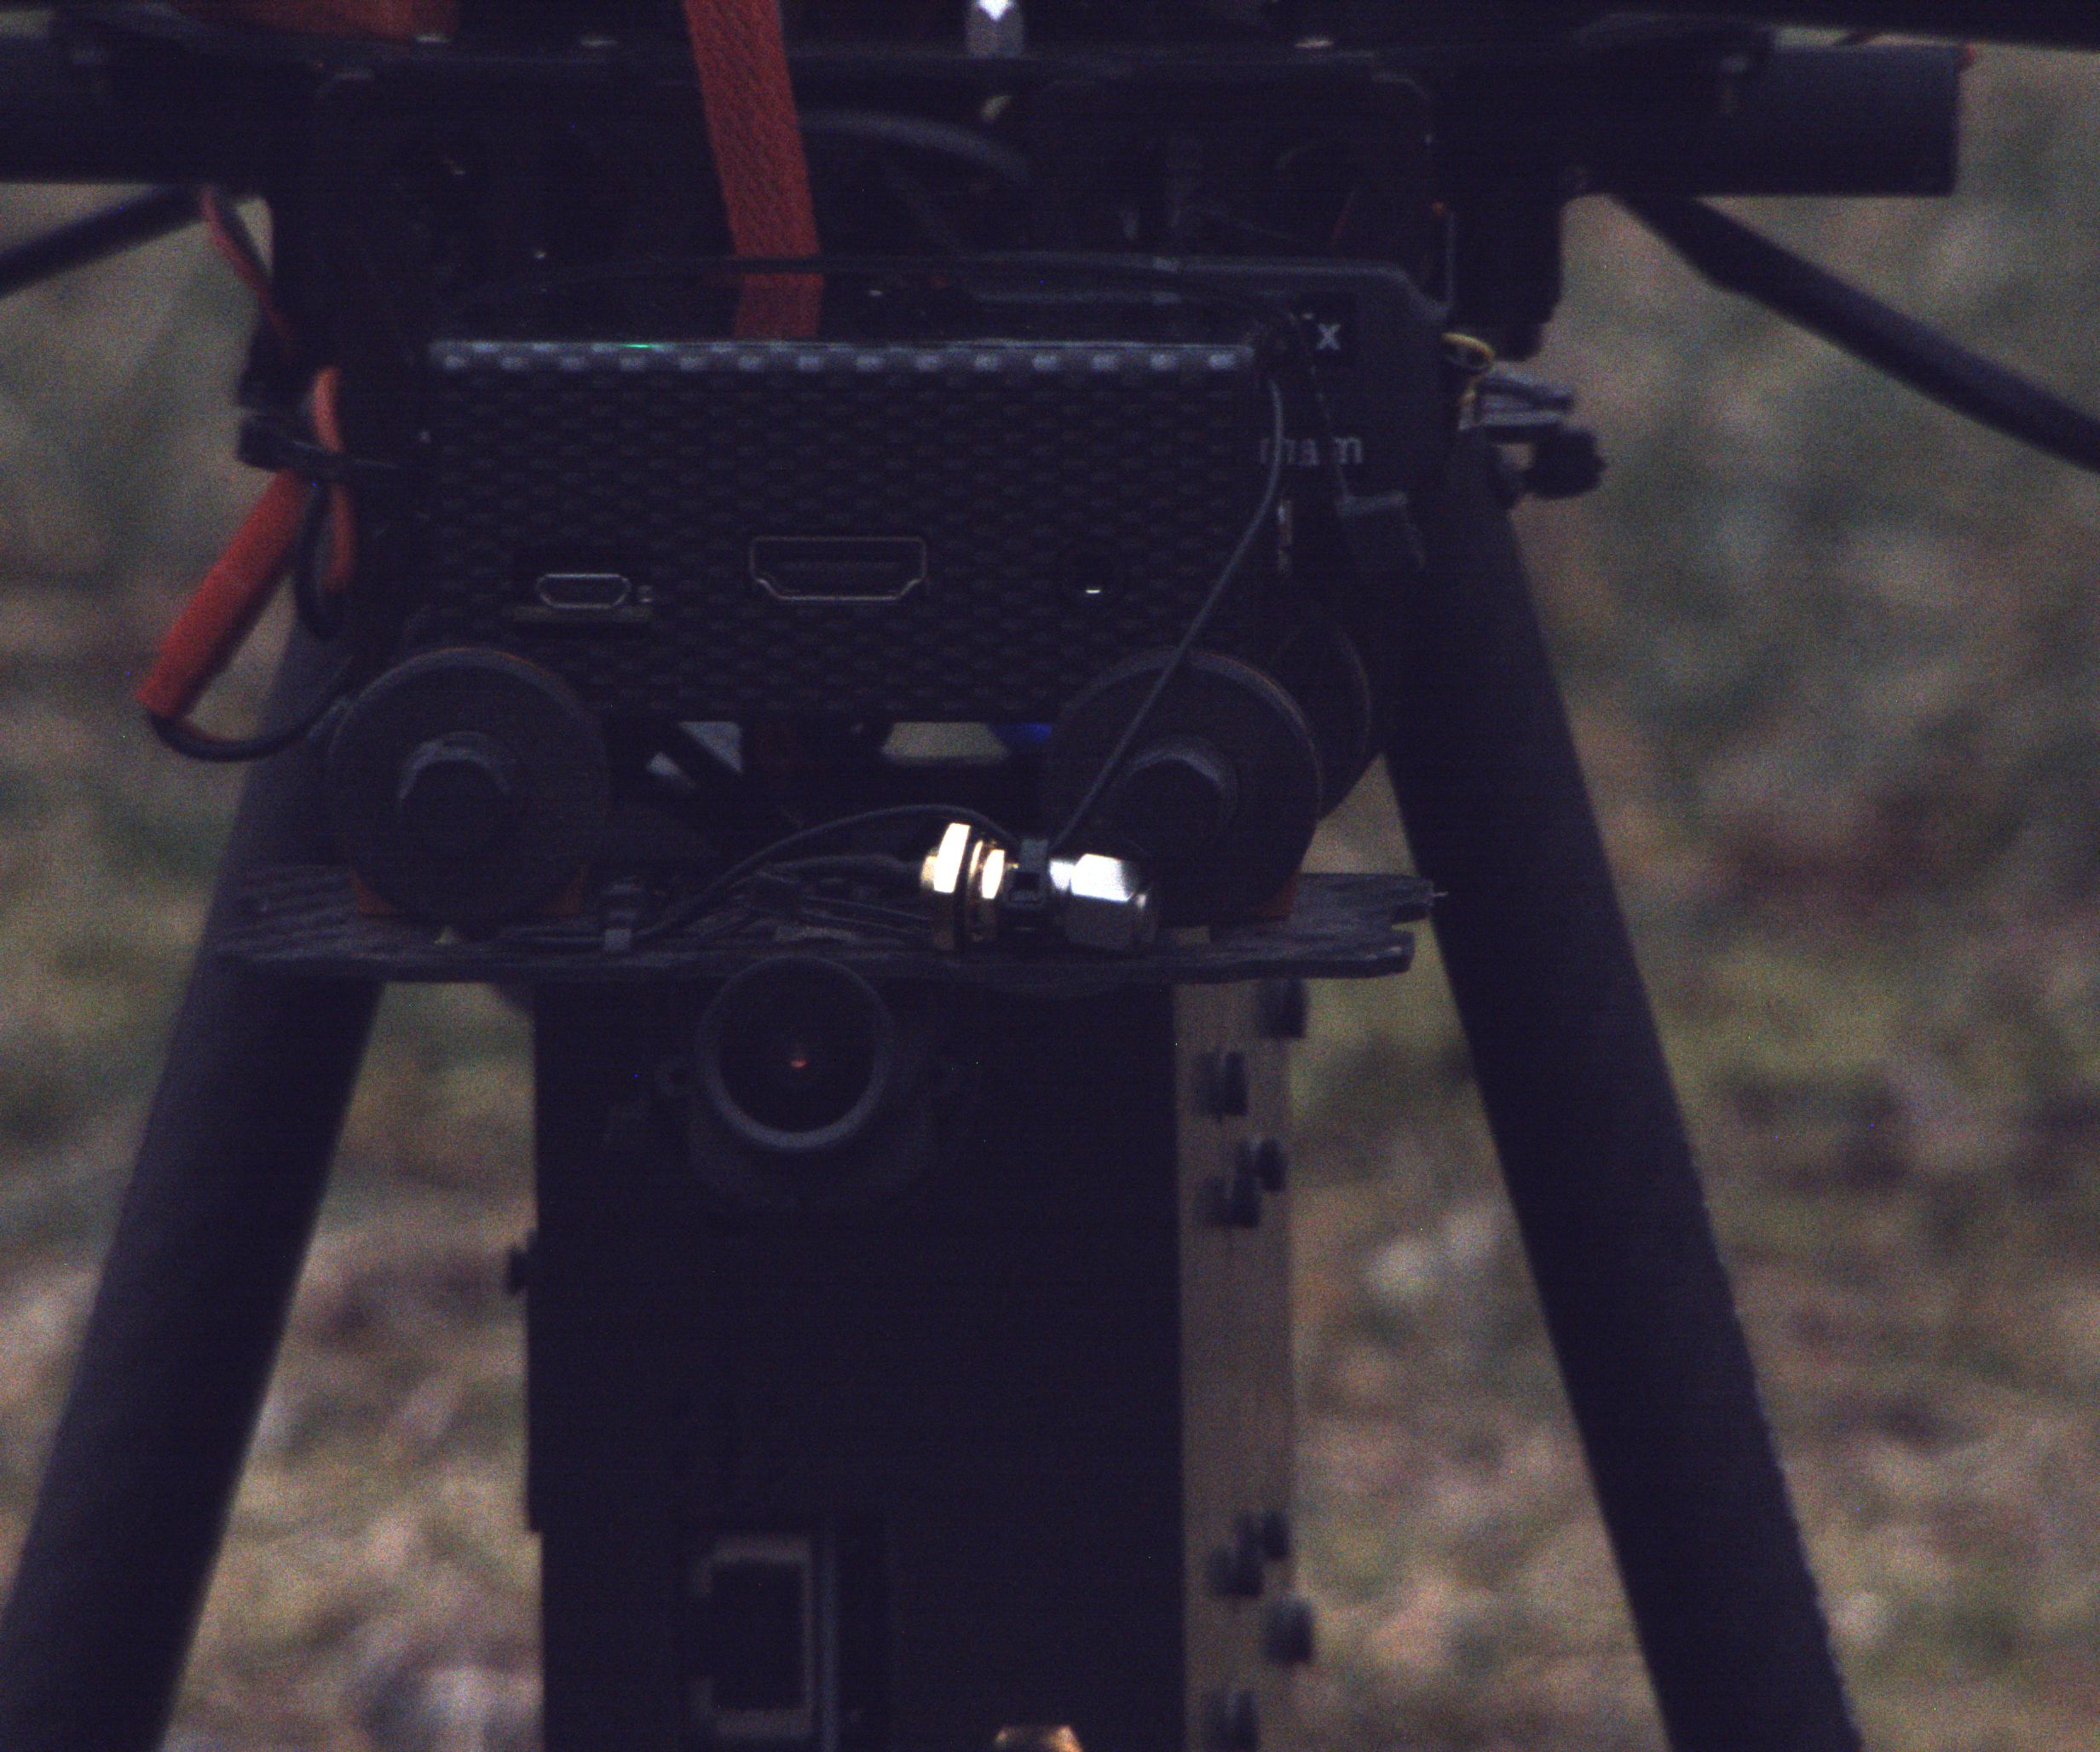Drohne: (7, 3, 2053, 1752)
